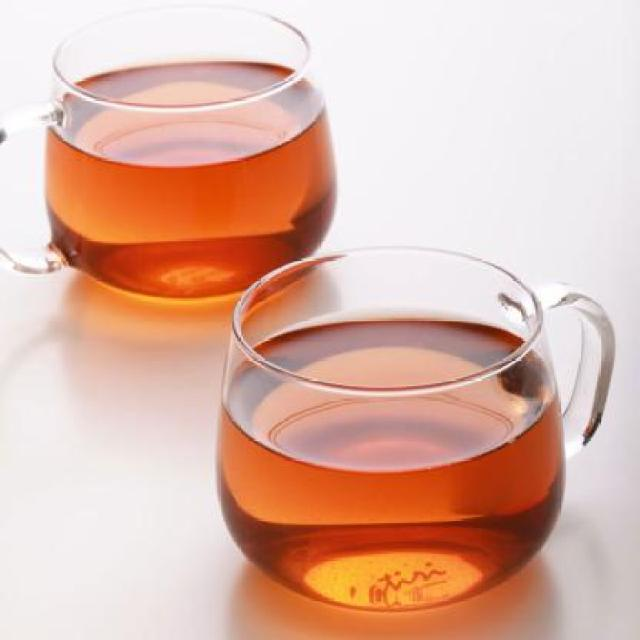cup: (198, 238, 628, 616)
